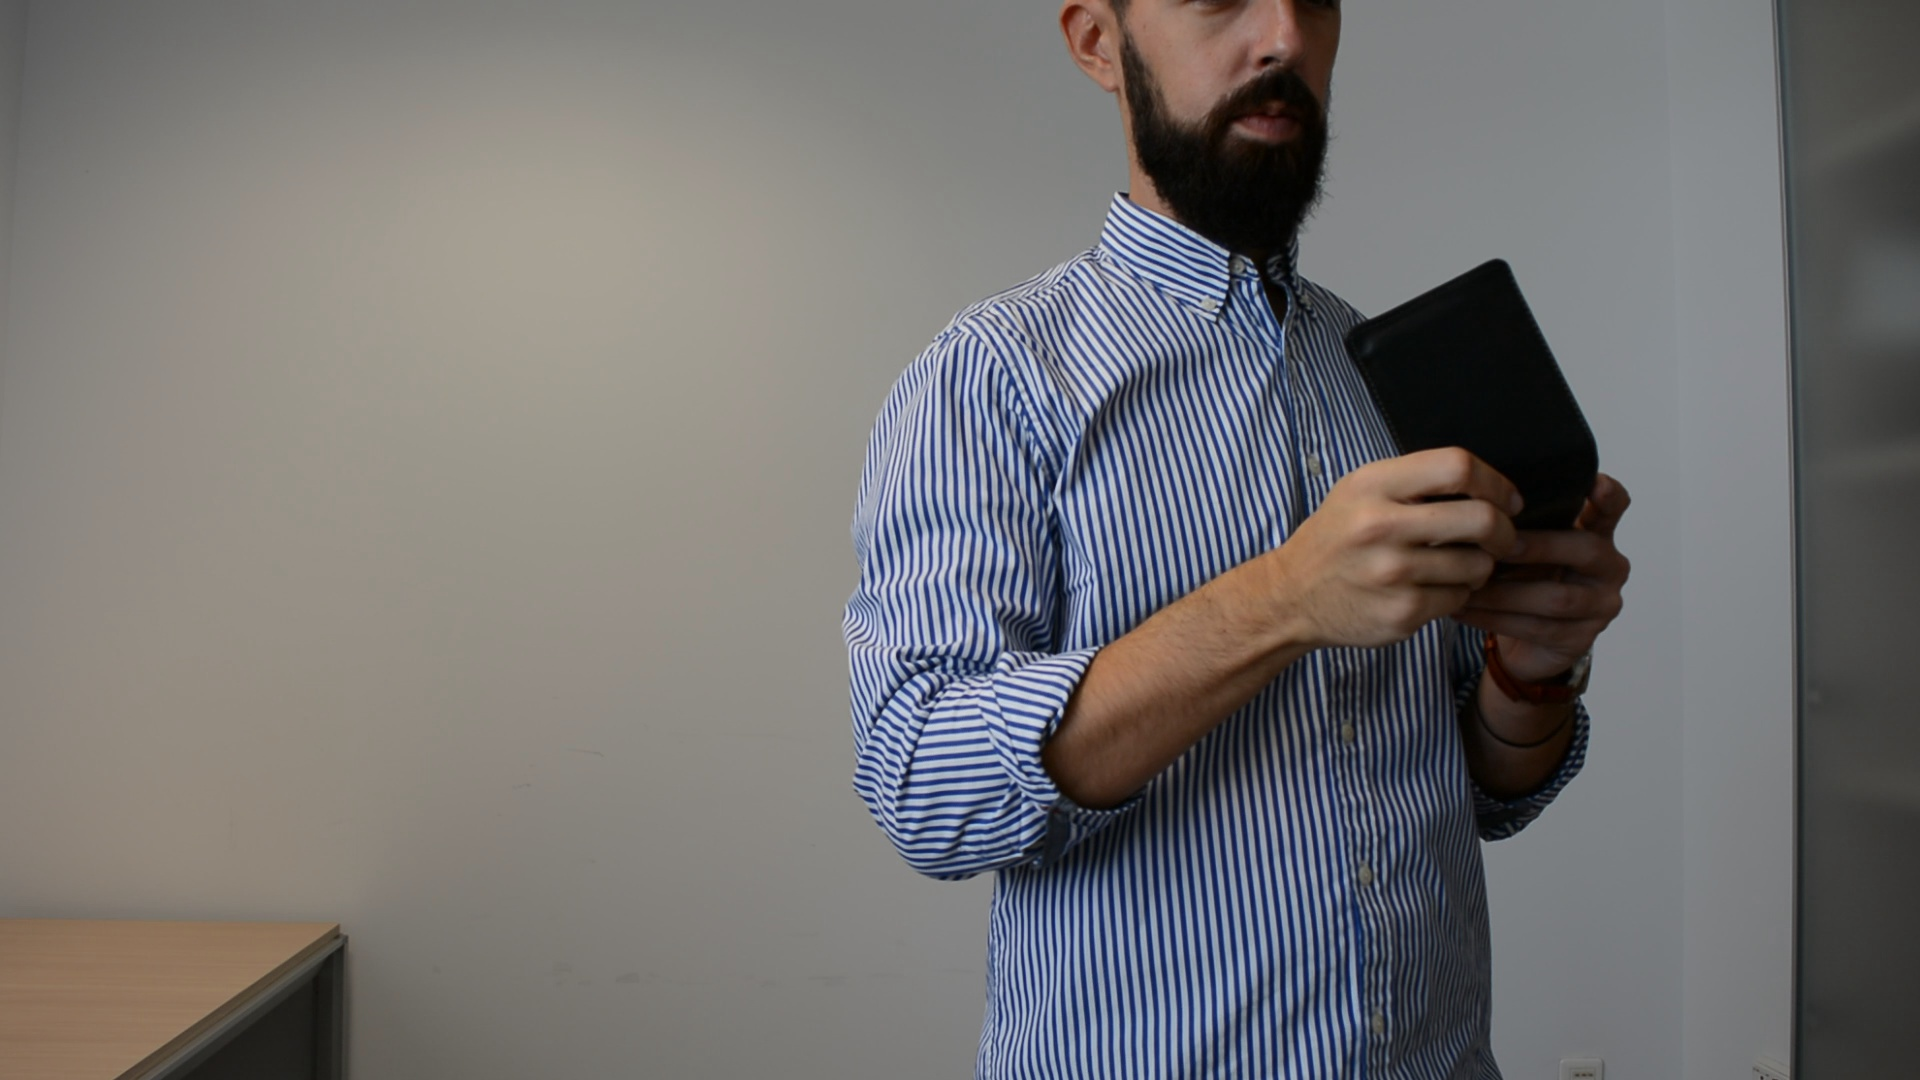monedero: (1340, 245, 1607, 547)
